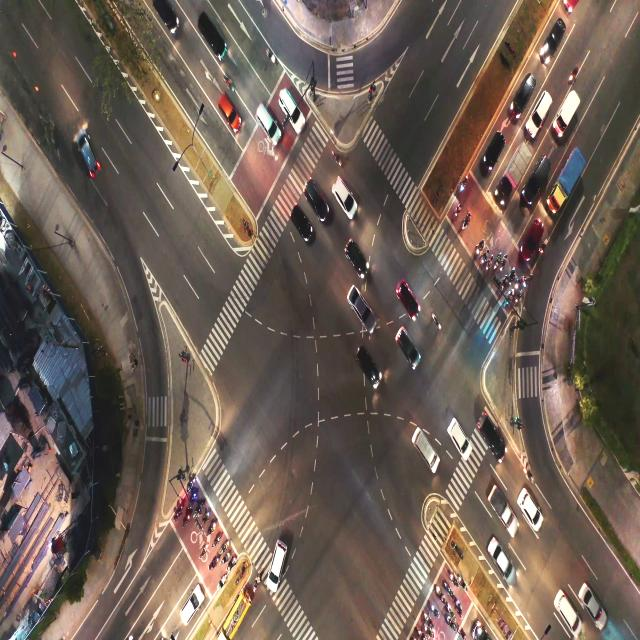bus: (230, 599, 247, 630)
car: (263, 546, 287, 594), (202, 21, 226, 58), (416, 432, 440, 469), (399, 286, 420, 323), (516, 226, 540, 258), (556, 596, 578, 630), (492, 541, 512, 578), (359, 347, 378, 385), (482, 421, 502, 456), (508, 73, 526, 111), (181, 584, 198, 624), (451, 424, 468, 460), (347, 245, 368, 273), (522, 492, 539, 526), (80, 122, 92, 170), (481, 130, 496, 166), (544, 23, 562, 53), (581, 589, 600, 617), (524, 165, 547, 188), (352, 292, 370, 321), (400, 326, 413, 366), (225, 101, 241, 133), (294, 208, 308, 234), (258, 104, 272, 129), (284, 88, 294, 122), (160, 4, 174, 28), (307, 184, 321, 205), (338, 184, 353, 203), (534, 106, 544, 129)
motorcycle: (224, 74, 233, 92), (433, 312, 443, 328), (208, 519, 217, 536), (332, 149, 341, 166), (266, 48, 275, 64), (430, 604, 440, 618), (220, 540, 229, 554), (452, 206, 462, 218), (523, 274, 530, 291), (196, 502, 205, 515), (188, 477, 197, 489), (212, 555, 219, 570), (219, 574, 226, 589), (458, 575, 465, 590), (202, 511, 210, 524), (524, 466, 532, 479), (540, 242, 547, 256), (455, 599, 462, 613), (416, 626, 424, 638), (253, 577, 259, 592), (185, 511, 191, 526), (460, 180, 469, 190), (463, 215, 469, 230), (477, 239, 482, 257), (436, 585, 442, 600), (424, 613, 432, 624), (215, 532, 221, 546), (445, 582, 452, 594), (448, 604, 454, 618), (424, 628, 434, 636), (486, 257, 492, 270), (506, 290, 513, 301), (449, 572, 456, 583), (202, 544, 208, 556), (228, 558, 234, 570), (458, 625, 464, 637), (189, 492, 196, 502), (481, 250, 486, 264), (510, 268, 515, 282), (494, 254, 498, 271), (500, 255, 504, 272), (448, 618, 454, 629), (222, 554, 229, 563), (500, 278, 505, 290), (514, 294, 520, 304), (176, 507, 181, 518), (515, 281, 519, 290)
truck: (494, 489, 511, 524), (558, 168, 571, 201), (511, 153, 521, 184), (561, 101, 573, 125)
